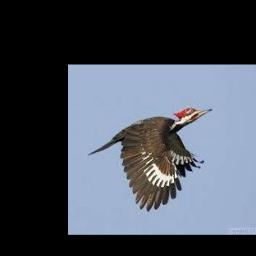Woodpecker: (88, 107, 212, 211)
